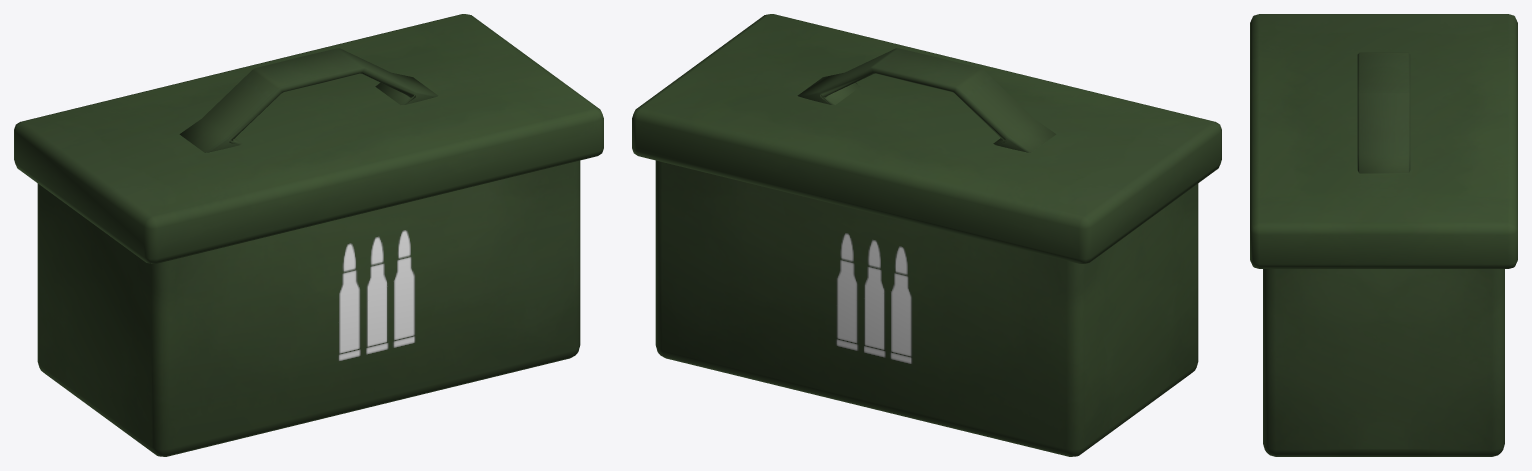
File: ammobox.fbx
The picture shows the model from 3 angles, left to right: view 1: azimuth 30°, elevation 25°; view 2: azimuth 150°, elevation 25°; view 3: azimuth 270°, elevation 25°; orthographic projection. The views are drawn at different scales.
Parts seen in each view (by area): view 1: ammobox; view 2: ammobox; view 3: ammobox.
Part boxes in pixels (<box>): ammobox: <box>14,14,603,456</box>; ammobox: <box>632,14,1221,456</box>; ammobox: <box>1250,14,1517,456</box>.
Bounding box in the file's own units: 35.39 × 22.01 × 18.52.
Materials: 1 (1 with a texture image).
